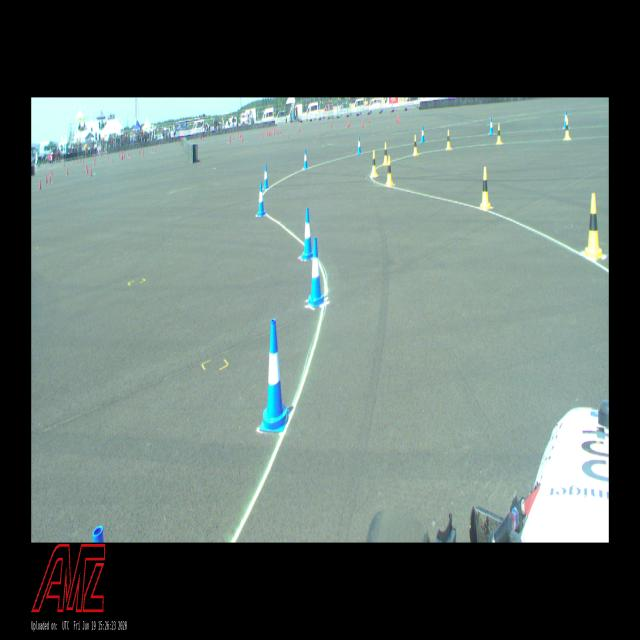blue_cone: (259, 318, 290, 433), (308, 236, 324, 307), (302, 207, 314, 261), (80, 529, 115, 542), (258, 182, 266, 217), (263, 164, 269, 189), (563, 110, 569, 129), (303, 149, 308, 170), (489, 118, 494, 136), (357, 136, 361, 154), (420, 126, 424, 143)
yellow_cone: (584, 193, 603, 259), (480, 166, 490, 210), (370, 150, 378, 178), (386, 156, 393, 186), (564, 118, 571, 140), (382, 142, 388, 165), (496, 123, 502, 144), (413, 134, 418, 156), (446, 130, 451, 150)
